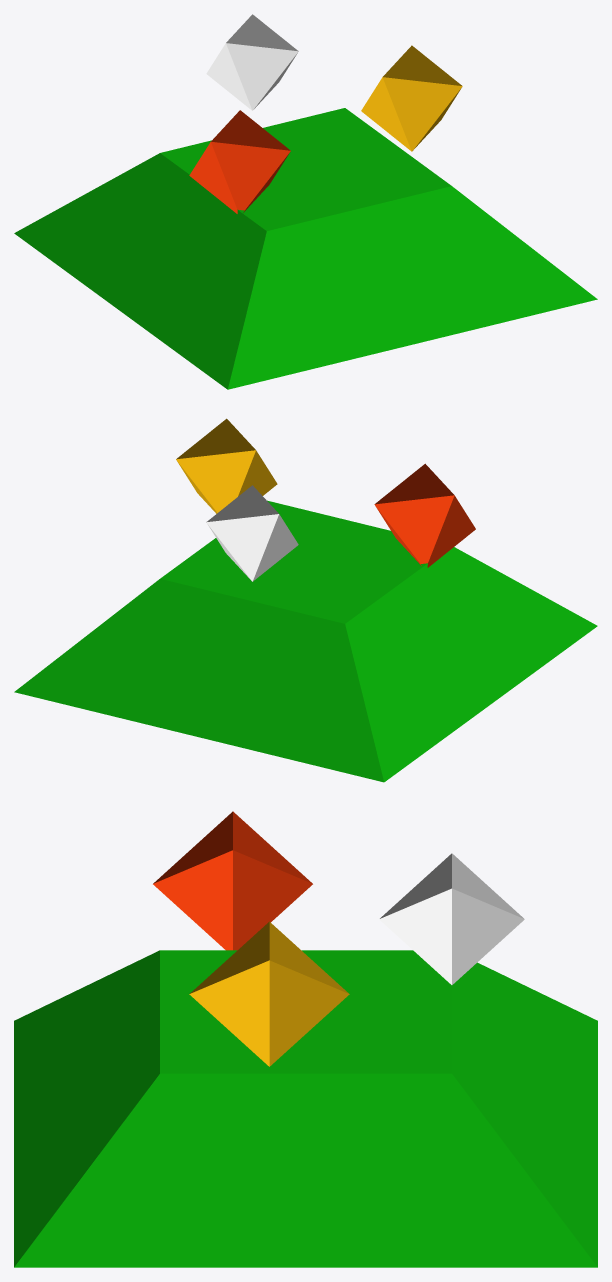
The model's file is flowers.gltf.
3 views of the same model, one above another, from view 1: azimuth 30°, elevation 25°; view 2: azimuth 150°, elevation 25°; view 3: azimuth 270°, elevation 25° (orthographic). The views are drawn at different scales.
Visible parts, largest first — view 1: leaves, gold, red, white; view 2: leaves, red, gold, white; view 3: leaves, gold, red, white.
Boxes of the visible parts, <box> form: leaves: <box>14,108,597,389</box>; gold: <box>361,45,462,151</box>; red: <box>189,110,290,213</box>; white: <box>206,14,298,110</box>; leaves: <box>14,500,597,782</box>; red: <box>374,463,475,567</box>; gold: <box>176,418,277,513</box>; white: <box>206,485,298,581</box>; leaves: <box>14,950,597,1267</box>; gold: <box>189,921,349,1066</box>; red: <box>153,811,312,950</box>; white: <box>379,853,524,984</box>.
Size of the model in its own units: 0.8 by 0.44 by 0.8.
